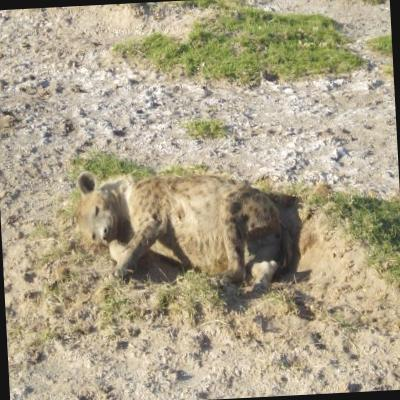hyenas: (45, 153, 316, 321)
